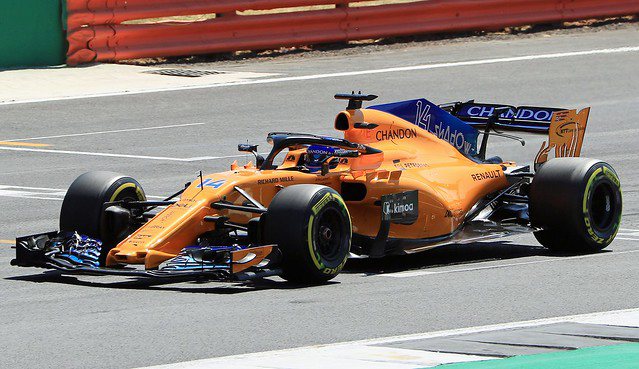F1 Car: (12, 87, 625, 289)
